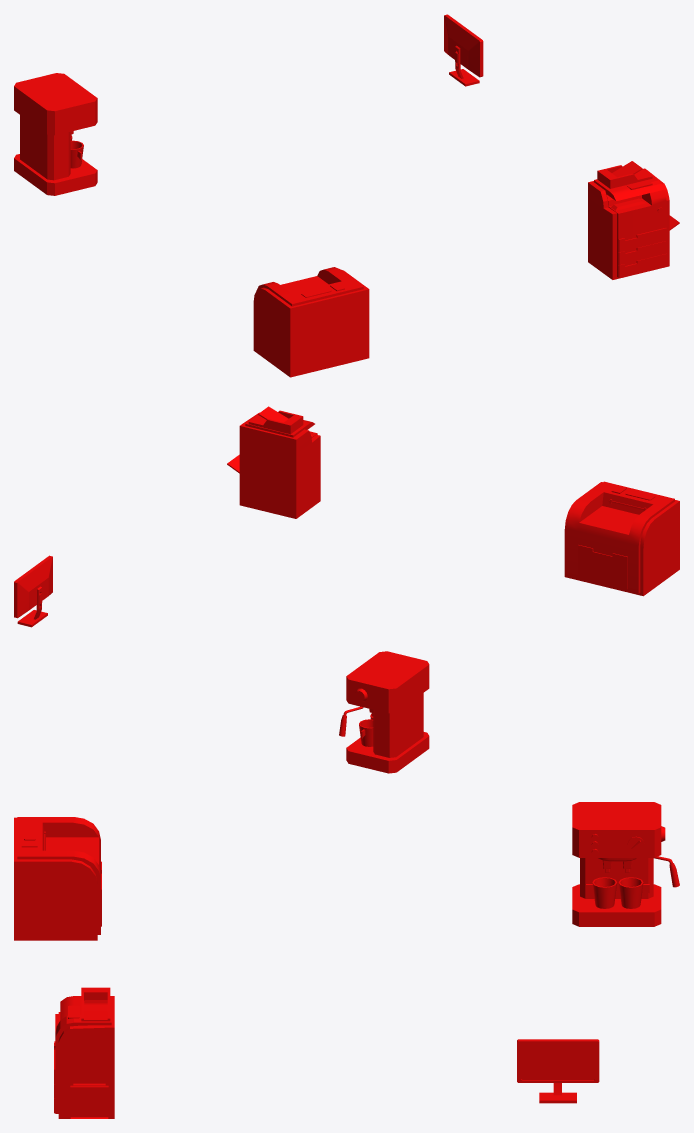
File: Objetivos.dae
3 renders of one model, top to bottom at view 1: azimuth 30°, elevation 25°; view 2: azimuth 150°, elevation 25°; view 3: azimuth 270°, elevation 25°, orthographic. The views are drawn at different scales.
Parts seen in each view (by area): view 1: Objetivos; view 2: Objetivos; view 3: Objetivos.
Part boxes in pixels (x1,y1,x2,y2): Objetivos: (14,14,679,377); Objetivos: (14,406,679,773); Objetivos: (14,802,679,1118).
Size of the model in its own units: 1507 by 321 by 1815.
